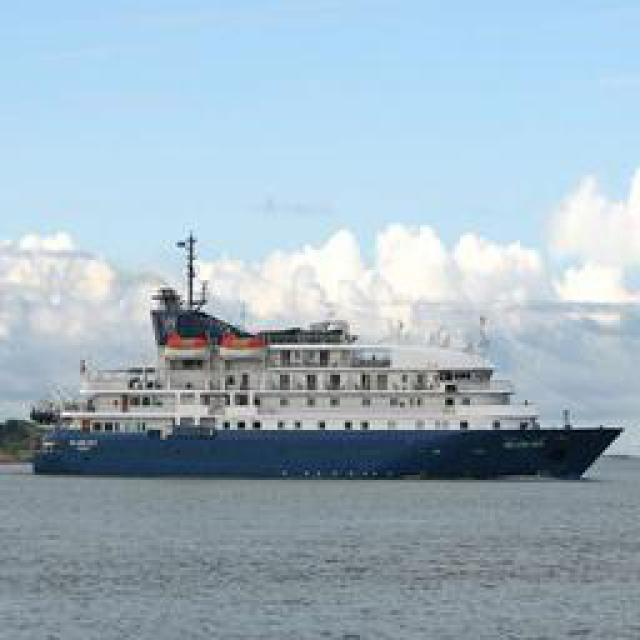Ship: (33, 295, 621, 485)
